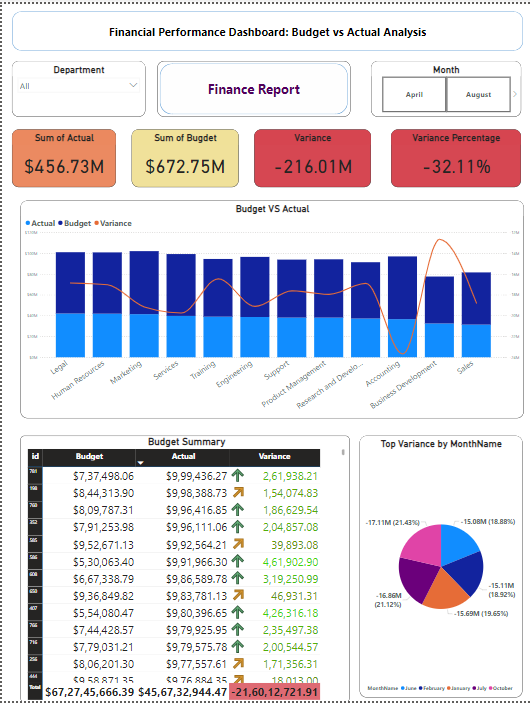

What the dashboard file says about the page in this screenshot:
{"tool":"powerbi","page":{"name":"Page 1","canvas":[1520,2000],"ordinal":0},"visuals":[{"type":"card","title":"Sum of Actual","fields":{"Values":["Sum(data.converted actual)"]},"box":[29.3,360.3,298.3,165.5],"z":0},{"type":"card","title":"Sum of Bugdet","fields":{"Values":["Sum(data.converted Budget)"]},"box":[370.7,360.3,306.9,165.5],"z":1000},{"type":"lineStackedColumnComboChart","title":"Budget VS Actual","fields":{"Category":["data.department"],"Y":["Sum(data.converted actual)","Sum(data.converted Budget)"],"Y2":["data.Variance"]},"box":[51.7,562.1,1443.1,624.1],"z":2000},{"type":"pivotTable","title":"Budget Summary","fields":{"Rows":["data.id"],"Values":["Sum(data.converted Budget)","Sum(data.converted actual)","data.Variance"]},"box":[53.3,1236.7,943.3,763.3],"z":3000},{"type":"slicer","title":"Department","fields":{"Values":["data.department"]},"box":[29.3,162.1,382.8,160.3],"z":4000},{"type":"shape","box":[443.3,163.3,553.3,160],"z":5000},{"type":"shape","box":[29.3,20.7,1465.5,113.8],"z":6000},{"type":"slicer","title":"Month","fields":{"Values":["data.MonthName"]},"box":[1056.7,163.3,430,160],"z":7000},{"type":"card","title":"Variance","fields":{"Values":["data.Variance"]},"box":[724.1,360.3,334.5,165.5],"z":8000},{"type":"pieChart","title":"Top Variance by MonthName","fields":{"Category":["data.MonthName"],"Y":["Sum(data.Variance_data)"]},"box":[1026.7,1236.7,466.7,750],"z":9000},{"type":"card","title":"Variance Percentage","fields":{"Values":["data.Percentage Variance"]},"box":[1115.5,360.3,372.4,165.5],"z":10000}]}

Visuals, with their boxes in screenshot pixels (x1, y1, x2, y2), scaled from the page's 1520x2000 canvas onto the 530x703 screenshot:
"Sum of Actual" card: box(10, 127, 114, 185)
"Sum of Bugdet" card: box(129, 127, 236, 185)
"Budget VS Actual" lineStackedColumnComboChart: box(18, 198, 521, 417)
"Budget Summary" pivotTable: box(19, 435, 347, 702)
"Department" slicer: box(10, 57, 144, 113)
shape: box(155, 57, 347, 114)
shape: box(10, 7, 521, 47)
"Month" slicer: box(368, 57, 518, 114)
"Variance" card: box(252, 127, 369, 185)
"Top Variance by MonthName" pieChart: box(358, 435, 521, 698)
"Variance Percentage" card: box(389, 127, 519, 185)
